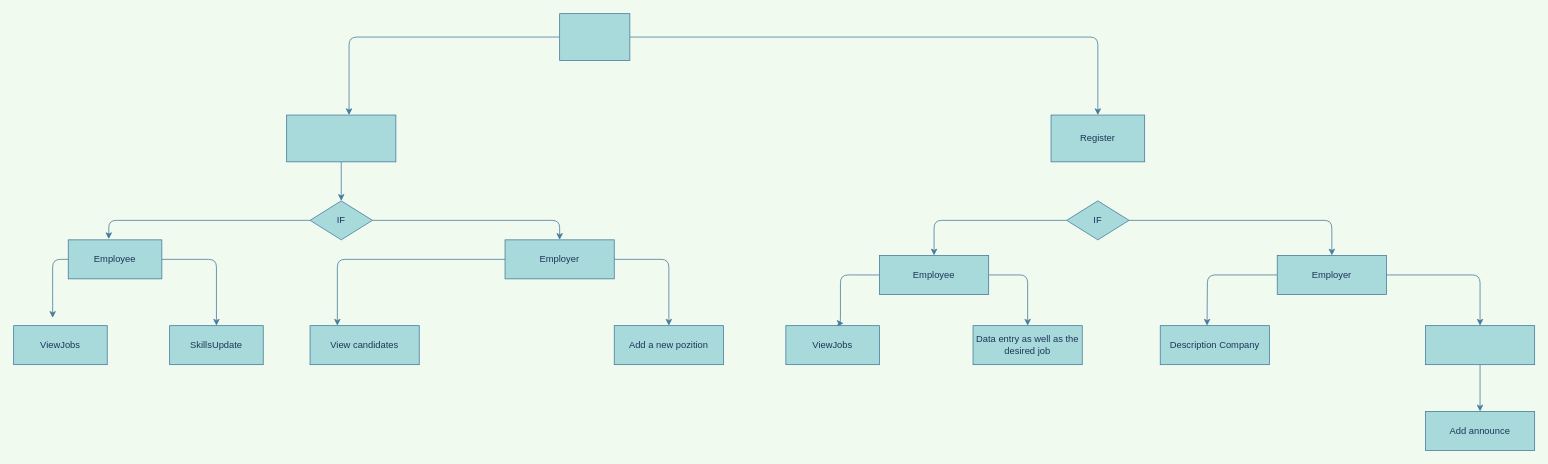
Image size: 1548x464. Some labels were removed from this diagram. Here are the shapes that lost their labels. From the top down, the centre of each, then its label:
At (594,36): "Guest".
At (341,138): "Login".
At (1480,345): "Add pozition".
